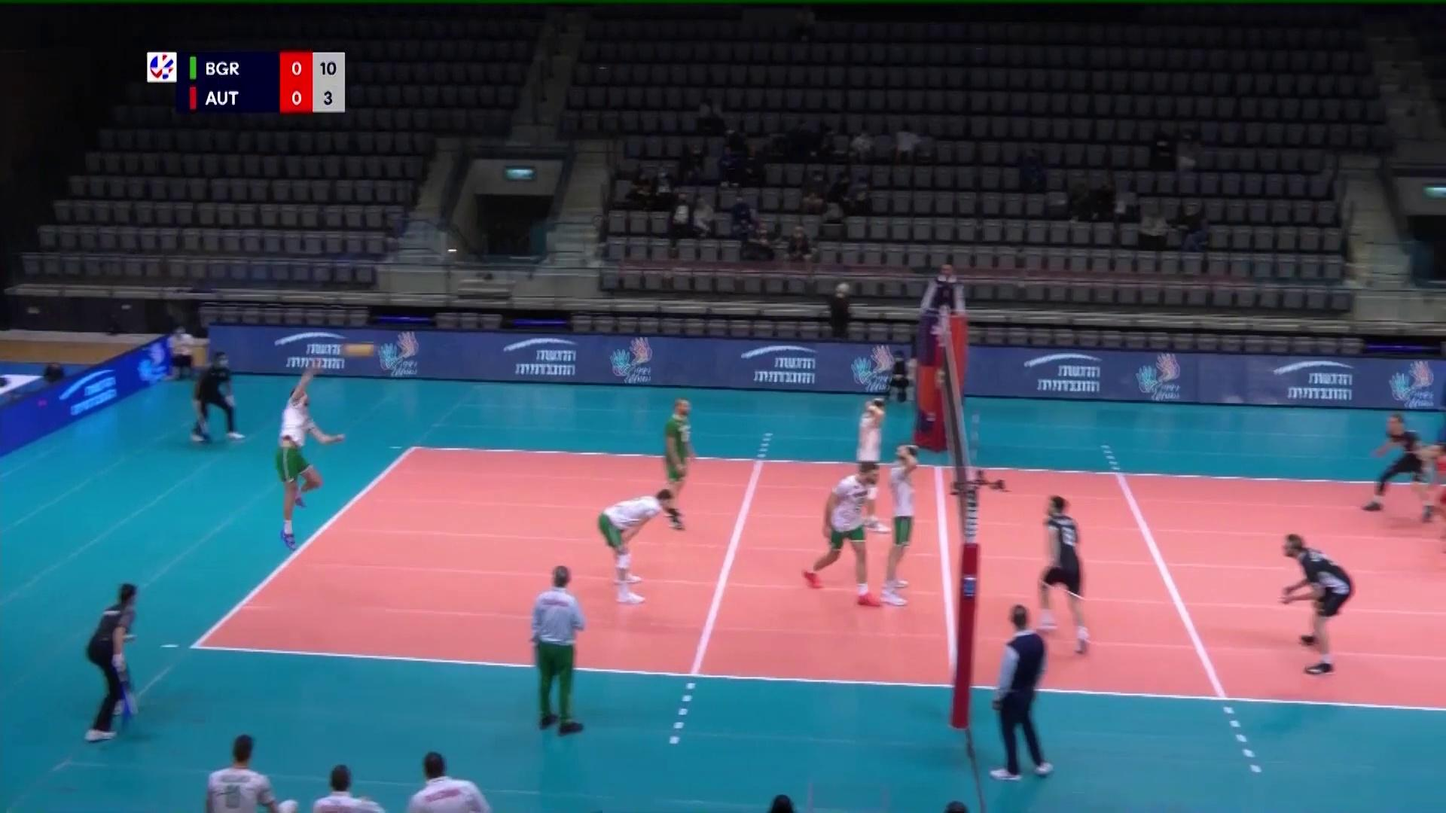ball: (343, 342, 376, 357)
